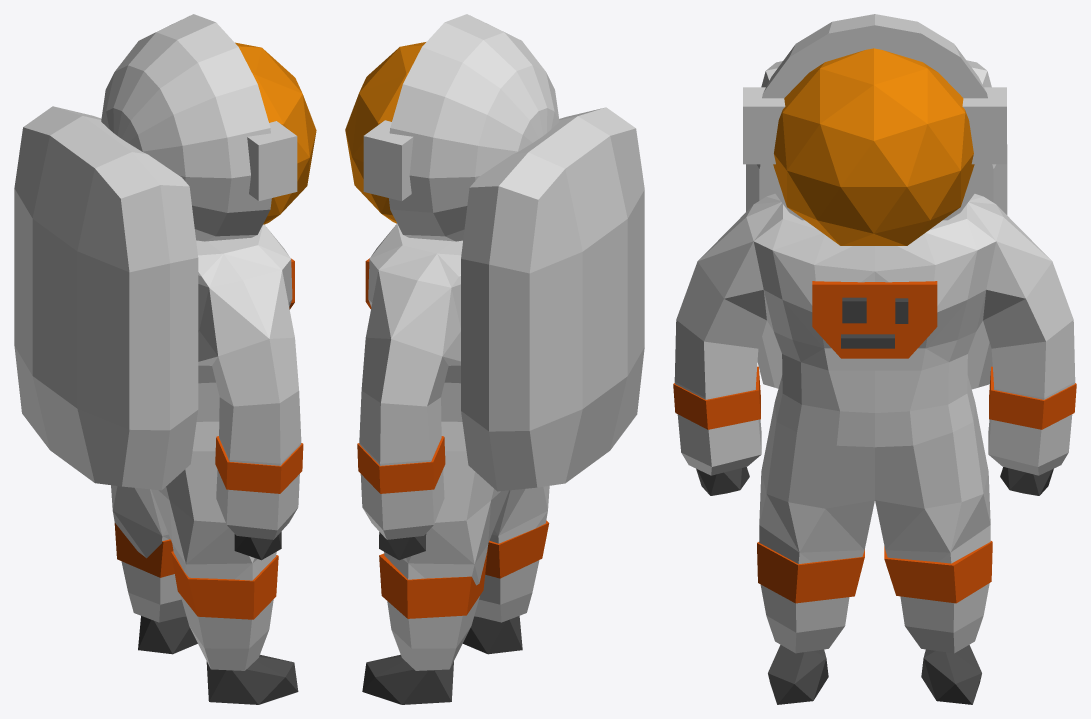
Rendered from astronaut.fbx.
3 renders of one model, left to right at view 1: azimuth 30°, elevation 25°; view 2: azimuth 150°, elevation 25°; view 3: azimuth 270°, elevation 25°, orthographic. The views are drawn at different scales.
Parts seen in each view (by area): view 1: Icosphere.006; view 2: Icosphere.006; view 3: Icosphere.006.
Part boxes in pixels (box(x1,y1,x2,y2)): Icosphere.006: box(14, 14, 316, 704); Icosphere.006: box(345, 14, 644, 704); Icosphere.006: box(673, 14, 1076, 704).
Bounding box in the file's own units: 70.52 × 177 × 97.86.
